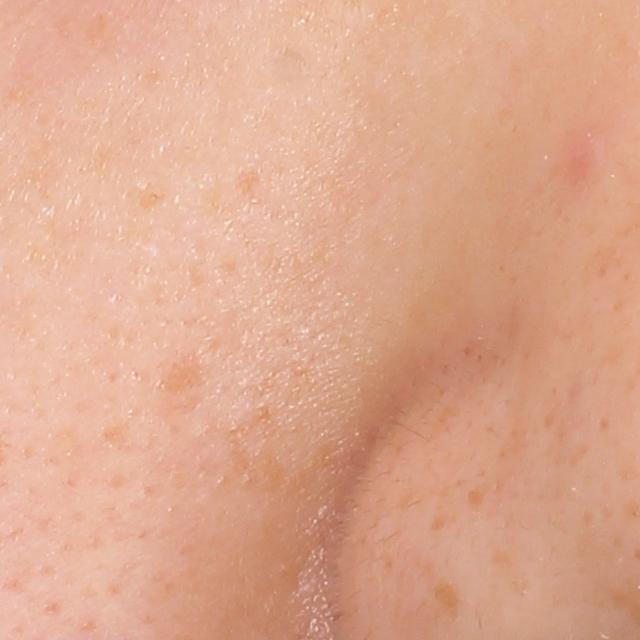melasma: (160, 357, 203, 402)
